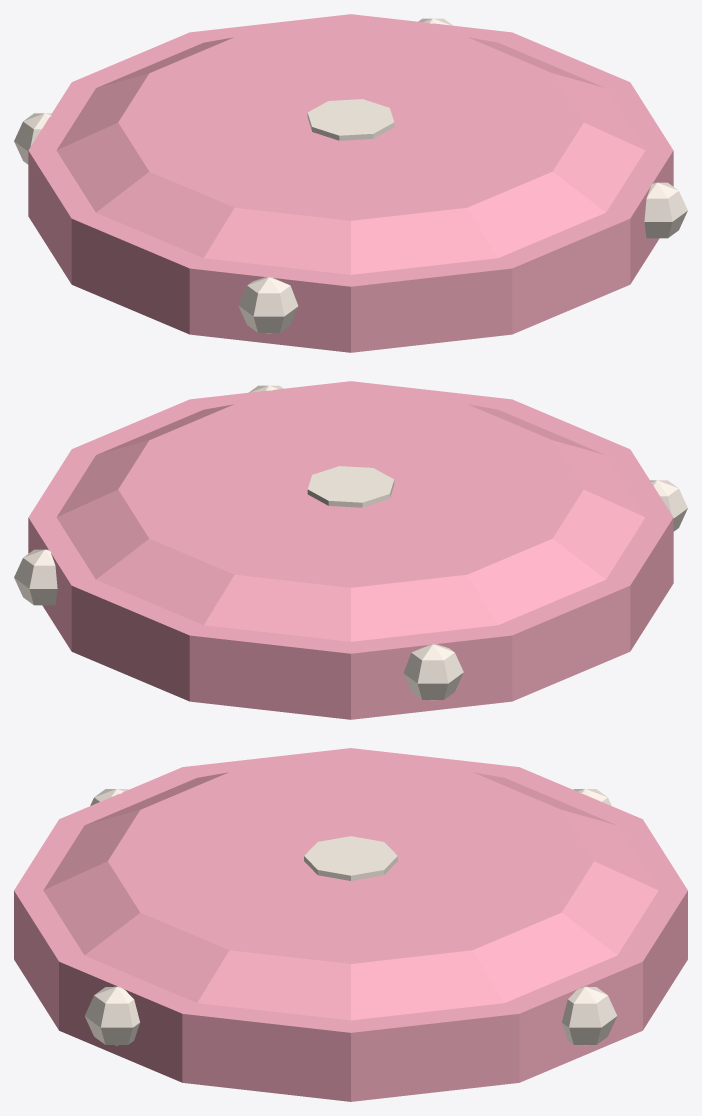
Rendered from CleanACat_Prop_Cushion.fbx.
3 renders of one model, top to bottom at view 1: azimuth 30°, elevation 25°; view 2: azimuth 150°, elevation 25°; view 3: azimuth 270°, elevation 25°, orthographic. The views are drawn at different scales.
Visible parts, largest first — view 1: CleanACat_Prop_Cushion; view 2: CleanACat_Prop_Cushion; view 3: CleanACat_Prop_Cushion.
Part boxes in pixels (x1,y1,x2,y2): CleanACat_Prop_Cushion: [14, 14, 687, 352]; CleanACat_Prop_Cushion: [14, 381, 687, 719]; CleanACat_Prop_Cushion: [14, 748, 687, 1101].
Size of the model in its own units: 2.3 by 0.39 by 2.3.
Materials: 1 (1 with a texture image).
